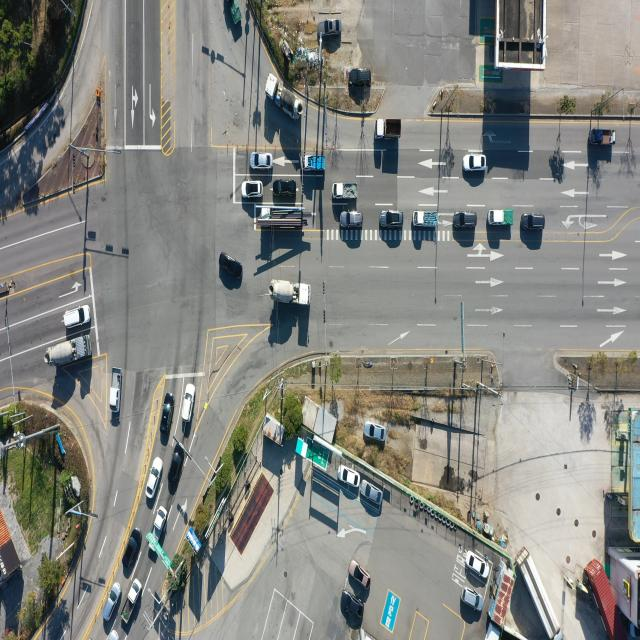car: (166, 443, 188, 493), (340, 590, 364, 628), (102, 582, 121, 623), (124, 528, 143, 568), (146, 456, 162, 499), (64, 306, 92, 330), (219, 254, 242, 280), (465, 552, 487, 579), (351, 561, 372, 589), (162, 397, 175, 442), (362, 481, 384, 506), (462, 588, 483, 612), (339, 464, 361, 486), (182, 383, 194, 423), (363, 422, 385, 442), (462, 155, 486, 173), (521, 213, 545, 231), (454, 211, 478, 229), (340, 210, 364, 228), (350, 67, 372, 86), (274, 179, 297, 197), (381, 210, 404, 228), (252, 151, 274, 169), (241, 180, 262, 198), (326, 18, 344, 34), (109, 625, 119, 640)
medium_truck: (520, 544, 564, 637), (266, 72, 305, 121), (46, 334, 90, 369), (268, 278, 310, 306), (259, 206, 307, 227)
small_truck: (148, 502, 170, 554), (124, 576, 142, 622), (376, 120, 404, 140), (110, 366, 122, 411), (334, 180, 360, 200), (588, 129, 616, 147), (301, 154, 325, 174), (226, 0, 242, 29), (488, 209, 513, 227), (414, 211, 439, 228)
